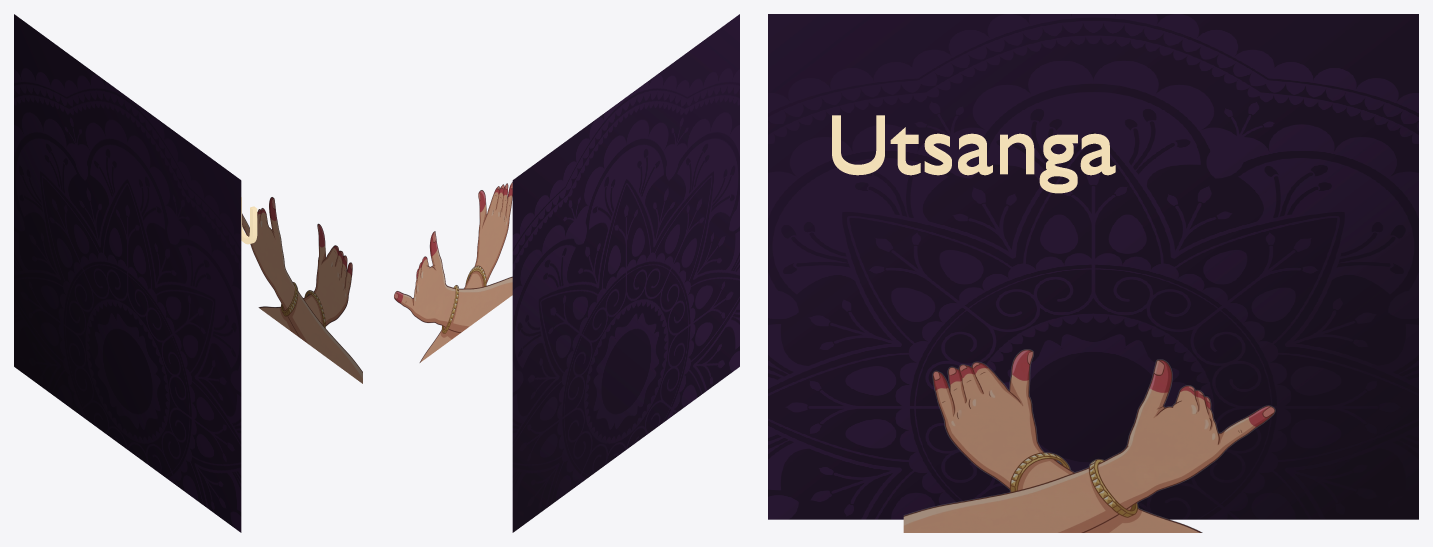
Rendered from Utsanga.glb.
3 renders of one model, left to right at view 1: azimuth 30°, elevation 25°; view 2: azimuth 150°, elevation 25°; view 3: azimuth 270°, elevation 25°, orthographic. The views are drawn at different scales.
Visible parts, largest first — view 1: Plane.006, Anjali.006, Text.028; view 2: Plane.006, Anjali.006; view 3: Plane.006, Anjali.006, Text.028.
Boxes of the visible parts, <box> form: Plane.006: <box>14,14,241,532</box>; Anjali.006: <box>242,197,362,383</box>; Text.028: <box>241,197,257,244</box>; Plane.006: <box>512,14,739,532</box>; Anjali.006: <box>394,182,512,362</box>; Plane.006: <box>768,14,1418,519</box>; Anjali.006: <box>903,349,1275,532</box>; Text.028: <box>832,115,1115,193</box>.
Bounding box in the file's own units: 1.53 × 3.05 × 3.56.
Materials: 3 (2 with a texture image).
